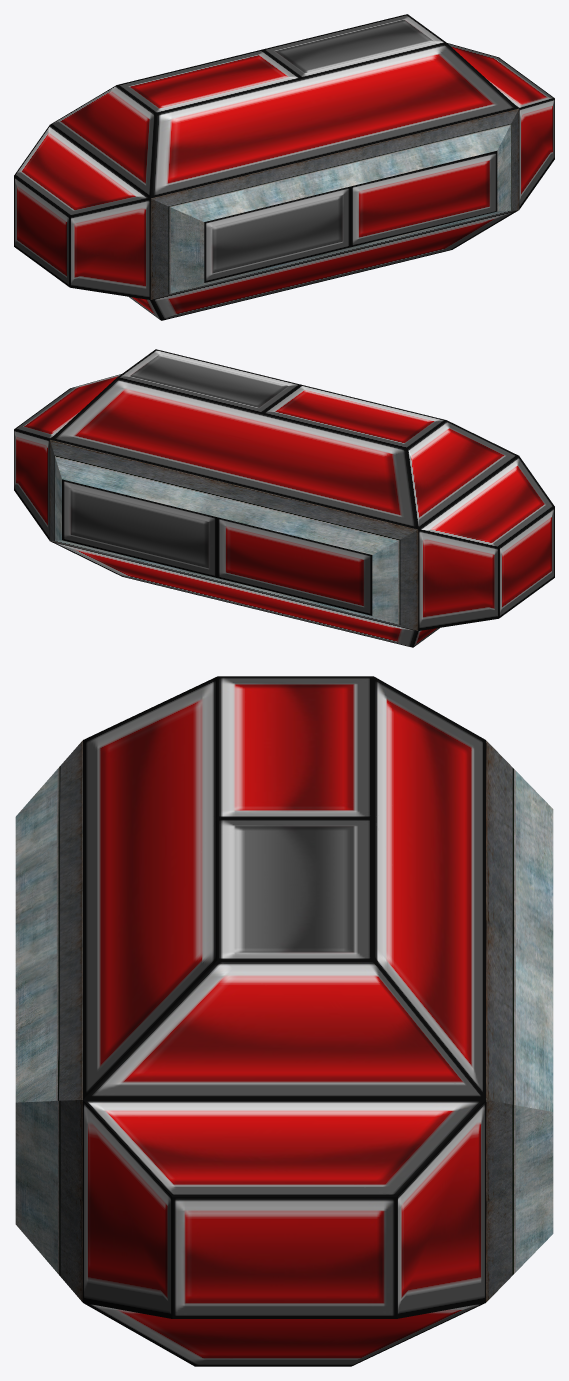
File: switch_block.obj
3 views of the same model, one above another, from view 1: azimuth 30°, elevation 25°; view 2: azimuth 150°, elevation 25°; view 3: azimuth 270°, elevation 25° (orthographic). The views are drawn at different scales.
Visible parts, largest first — view 1: Mesh1 Model; view 2: Mesh1 Model; view 3: Mesh1 Model.
Part boxes in pixels (x1,y1,x2,y2): Mesh1 Model: (14,14,554,320); Mesh1 Model: (14,349,554,647); Mesh1 Model: (15,676,553,1366).
Bounding box in the file's own units: 2.5 × 1 × 1.2.
